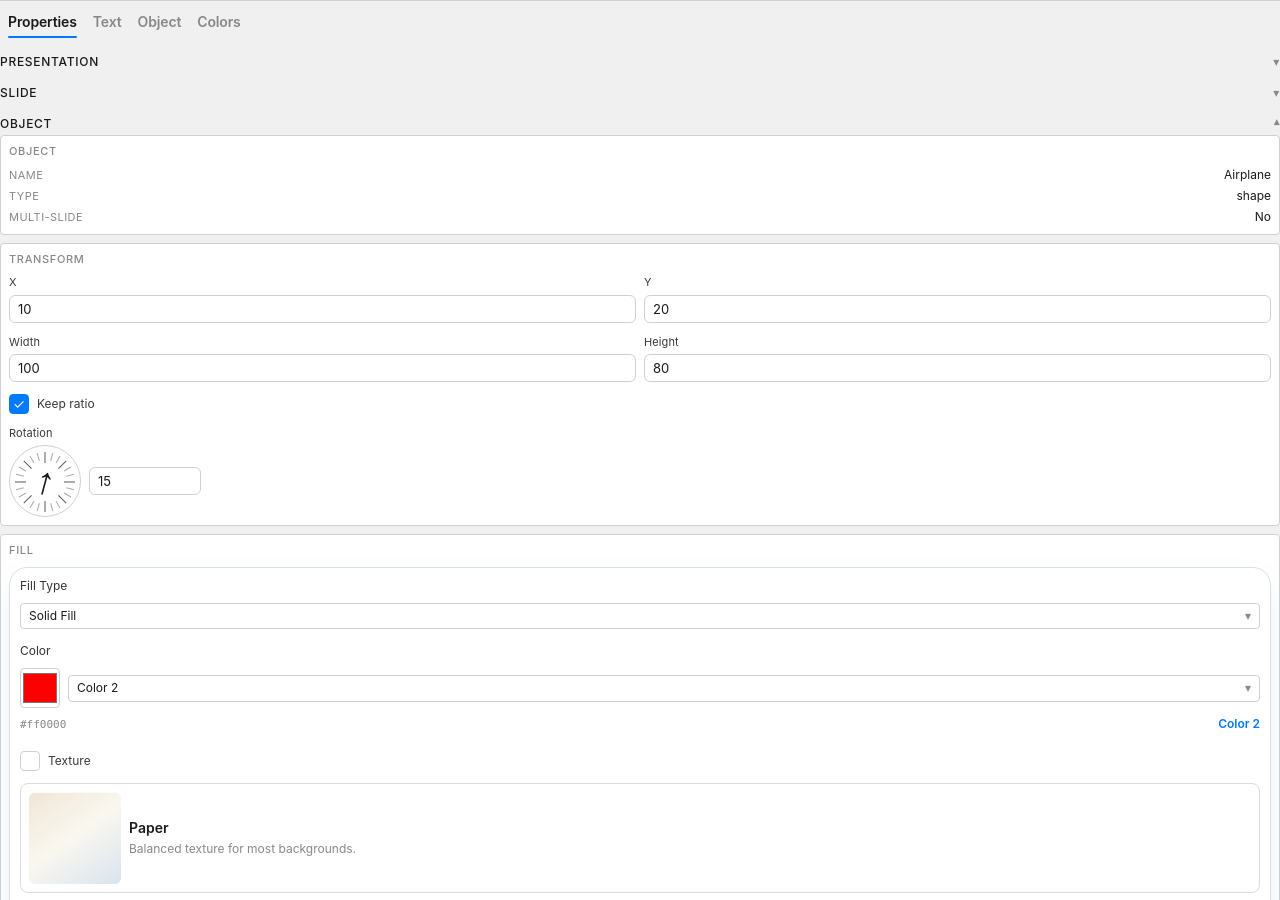
Test: PropertiesPanel › shows object style cards in the object tab when an object is selected
Click the tab "Object" at [159, 24], box [130,5,189,42]
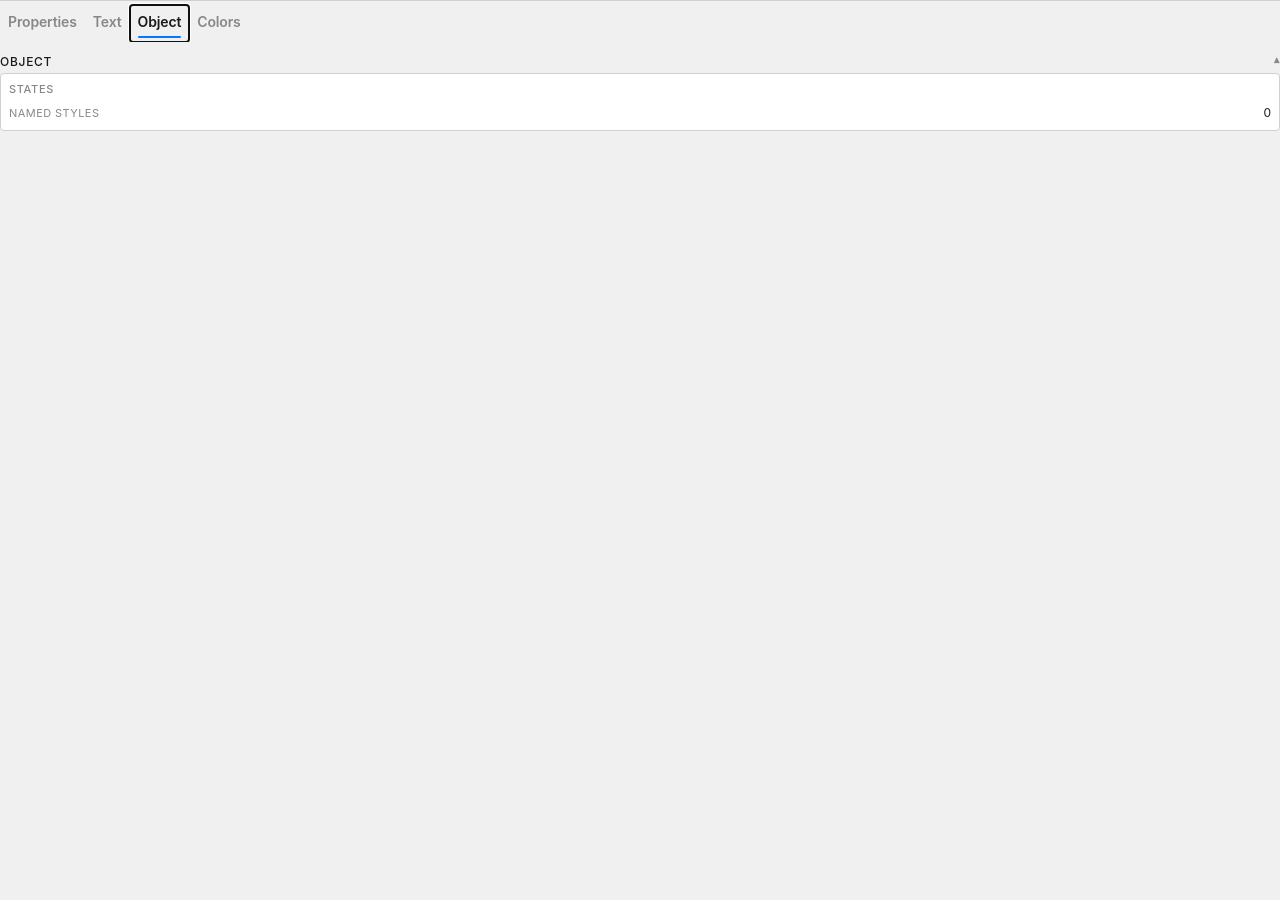
expect the text "Fill" is gone: met
expect the text "Transform" is gone: met
expect the text "States" is shown: met, box [9,82,54,96]
